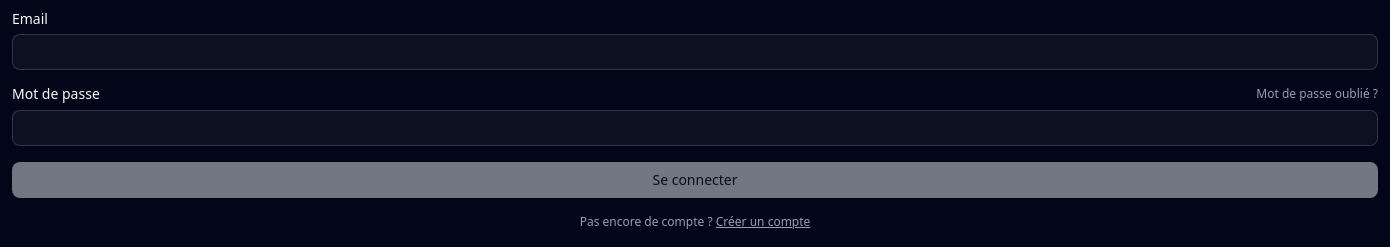
Test case: EmailPasswordForm › disables inputs while loading
This screenshot has width=1390, height=247.
In the field labelled "Email": (695, 52) [12,34,1378,70], type "me@example.com"
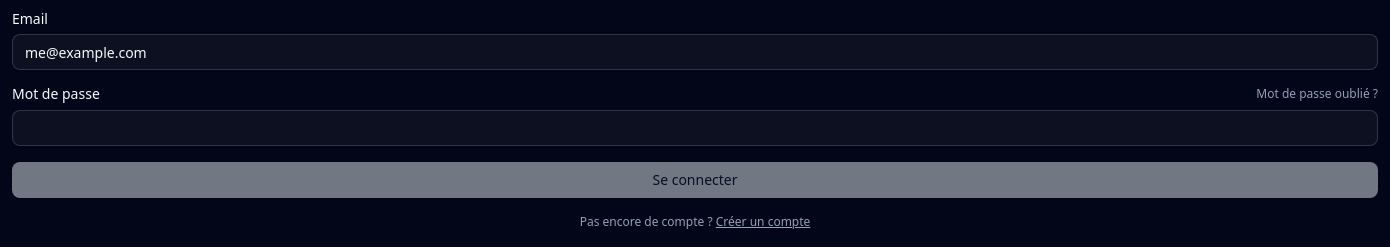
In the password field labelled "Mot de passe": (695, 128) [12,110,1378,146], type "pass1234"
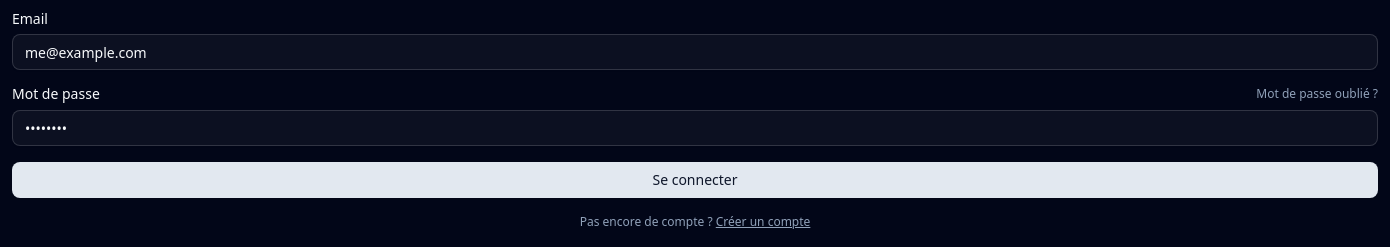
Submit the form labelled "Email"
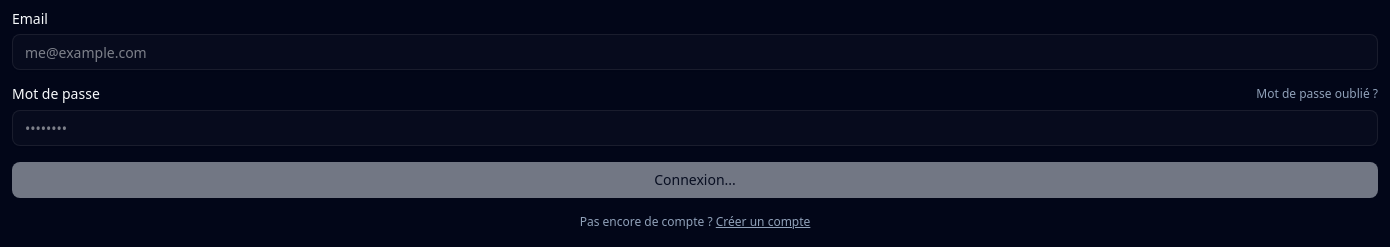
Expected: the button "Connexion..." is disabled, [12,162,1378,198]
